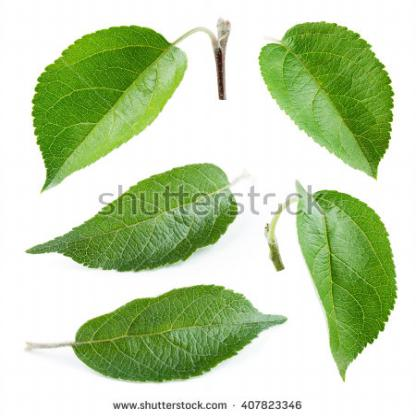apple leaf: (16, 9, 196, 196), (240, 20, 415, 181), (43, 162, 247, 281), (288, 184, 405, 385), (66, 285, 295, 386)
